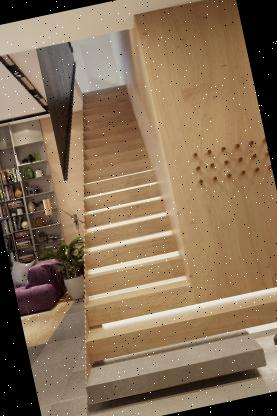stair: (41, 70, 206, 406)
